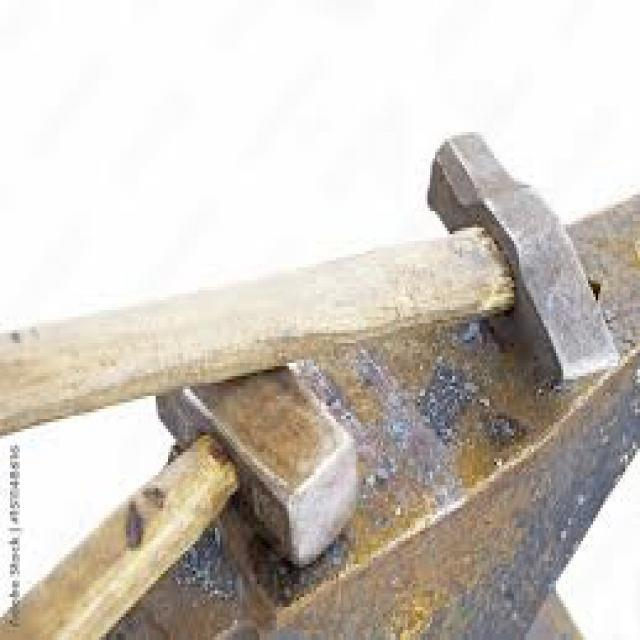hammer: (0, 130, 620, 437), (2, 297, 374, 640)
